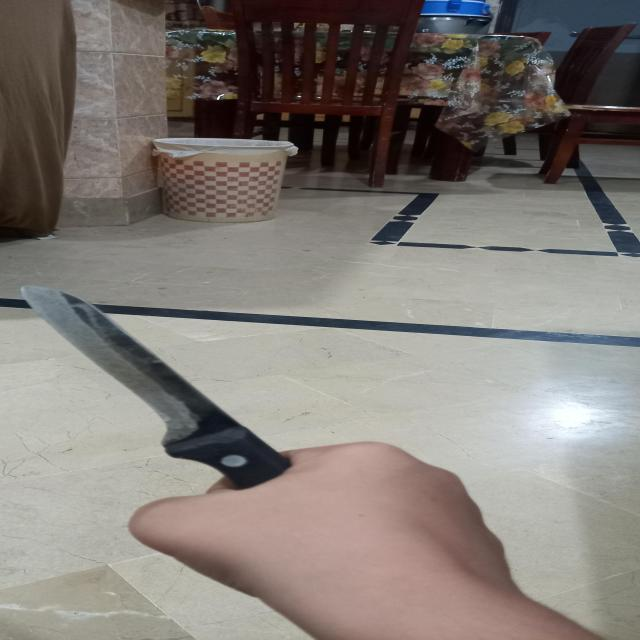faca: (18, 284, 294, 490)
